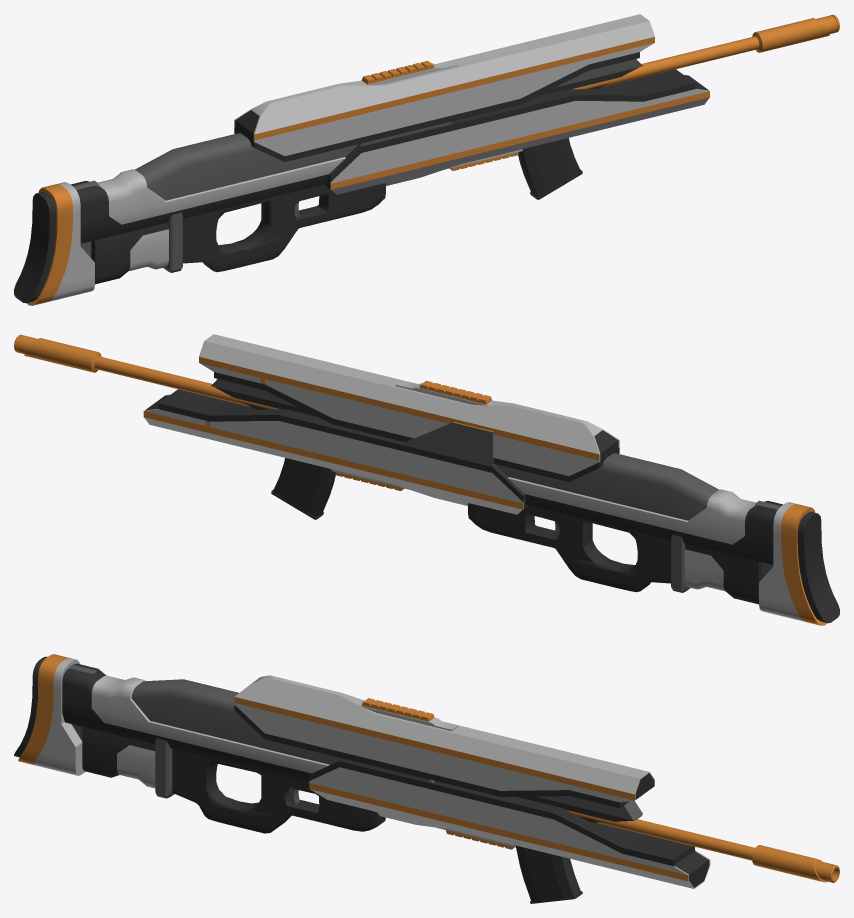
The model's file is sniper_rifle_generic.glb.
3 renders of one model, top to bottom at view 1: azimuth 30°, elevation 25°; view 2: azimuth 150°, elevation 25°; view 3: azimuth 330°, elevation 25°, orthographic.
Parts seen in each view (by area): view 1: Sniper_1, Magazine_Sniper; view 2: Sniper_1, Magazine_Sniper; view 3: Sniper_1, Magazine_Sniper.
Boxes of the visible parts, x1,y1,x2,y2 form: Sniper_1: [14, 14, 839, 305]; Magazine_Sniper: [518, 138, 582, 199]; Sniper_1: [14, 334, 839, 625]; Magazine_Sniper: [271, 458, 335, 519]; Sniper_1: [14, 654, 839, 888]; Magazine_Sniper: [516, 845, 582, 903].
Size of the model in its own units: 0.65 by 0.1216 by 0.0301.
